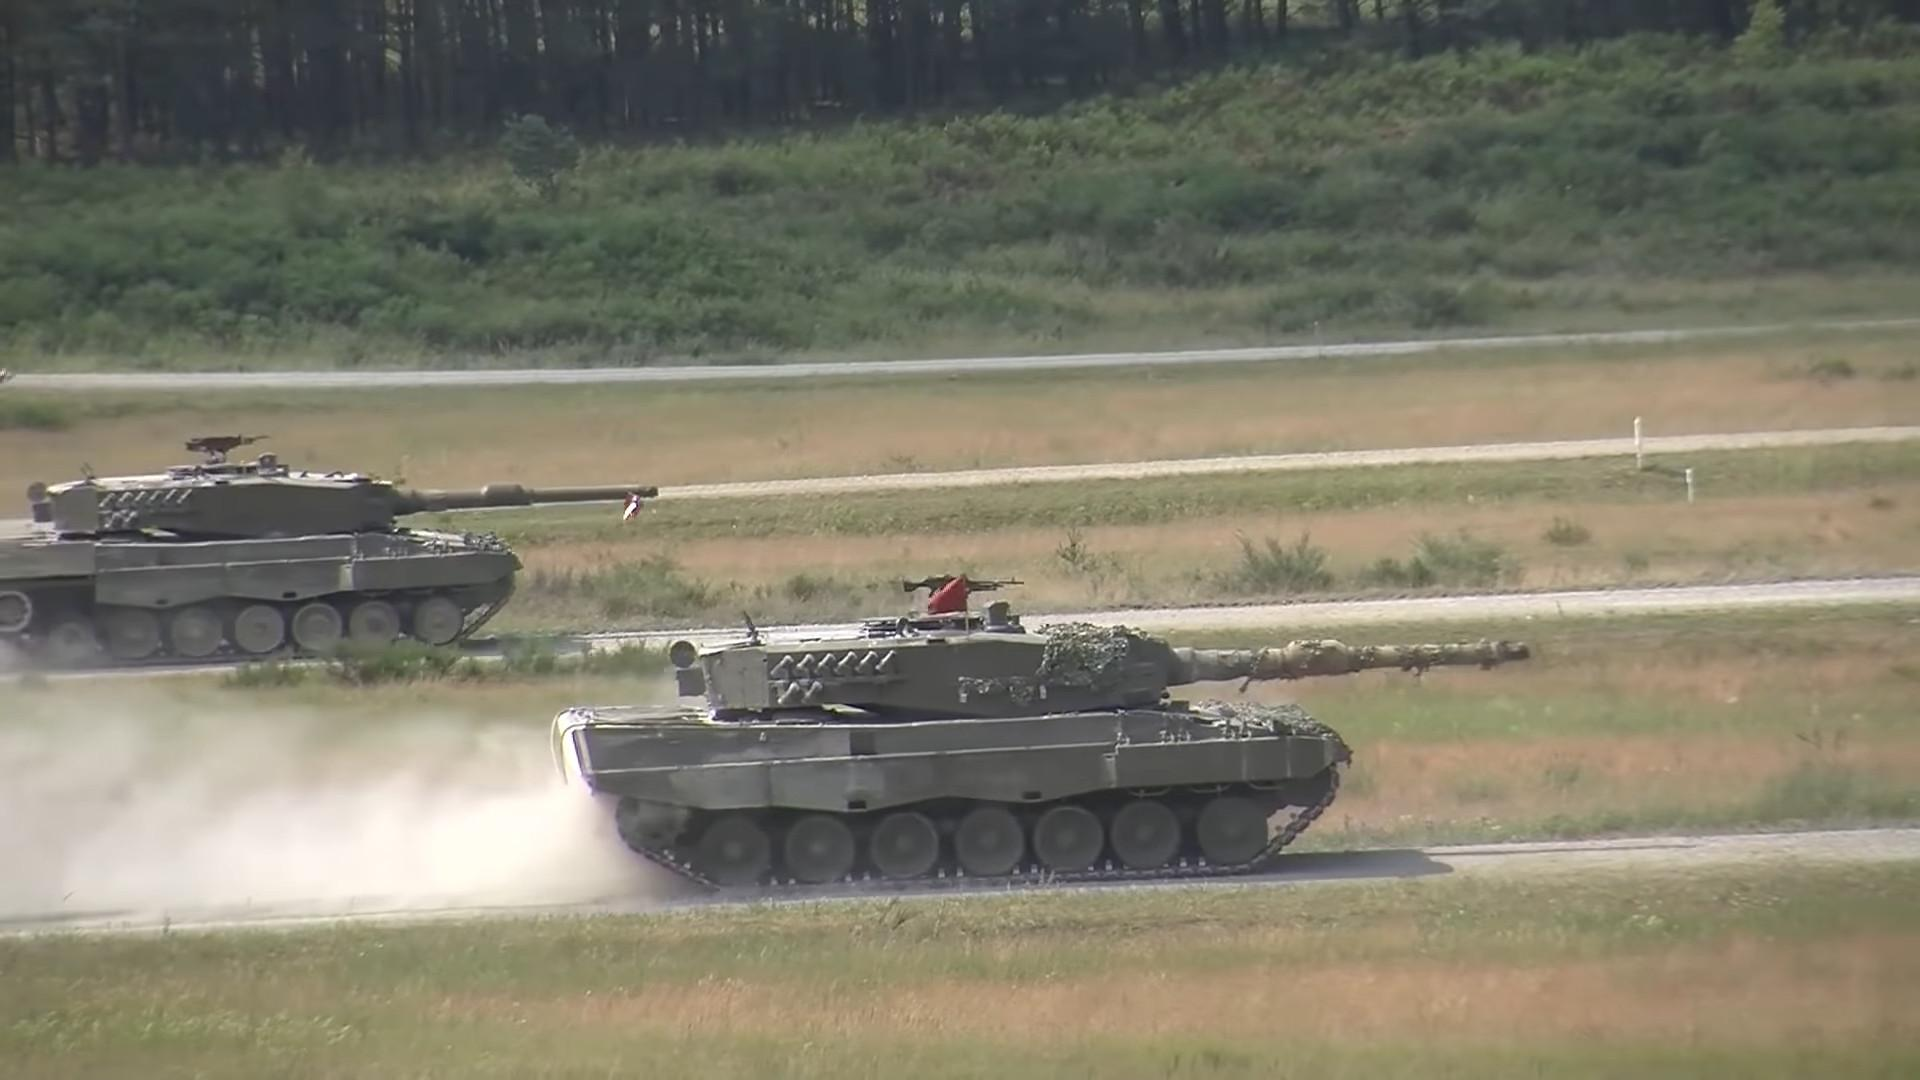tank: (545, 572, 1536, 897), (1, 426, 669, 686)
